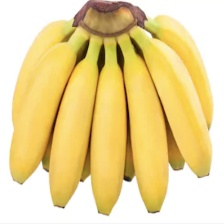banana: (20, 48, 206, 203)
